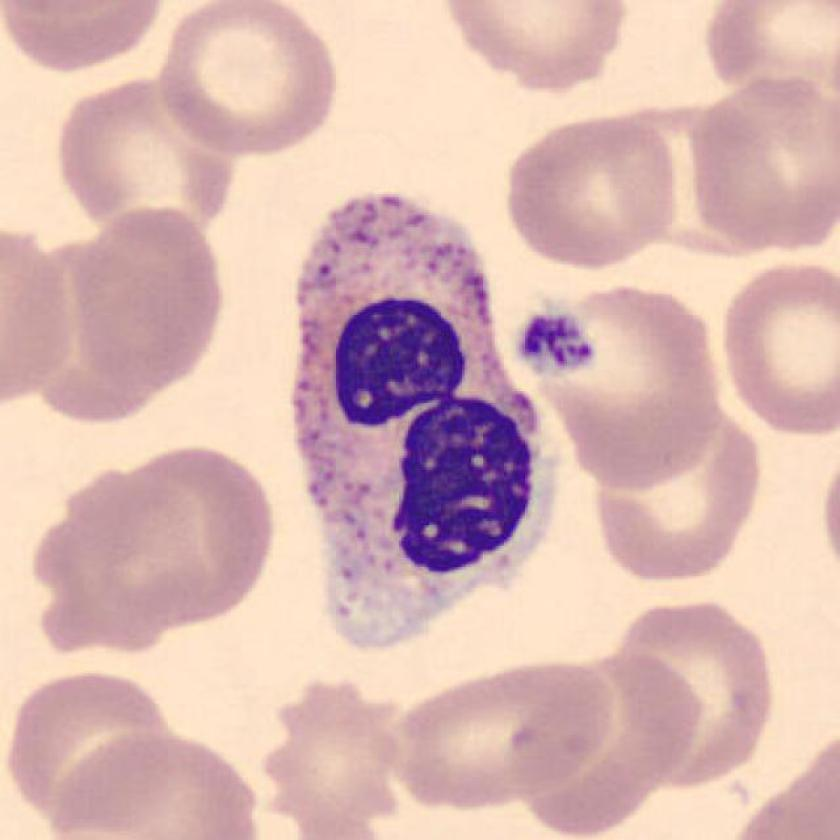neutrophil: (290, 194, 559, 649)
